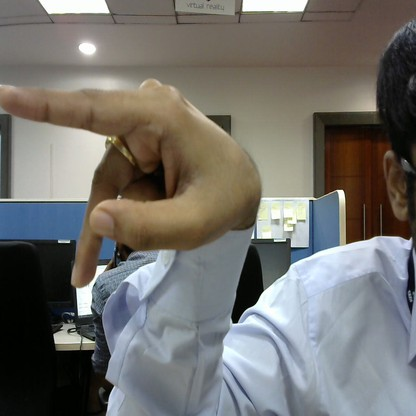p: (1, 62, 272, 289)
